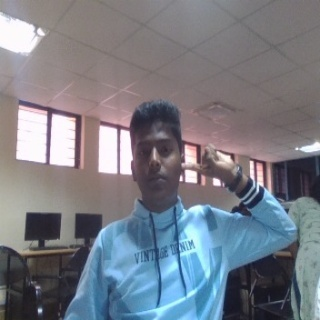Deaf: (181, 142, 237, 183)
Face: (128, 100, 188, 206)
